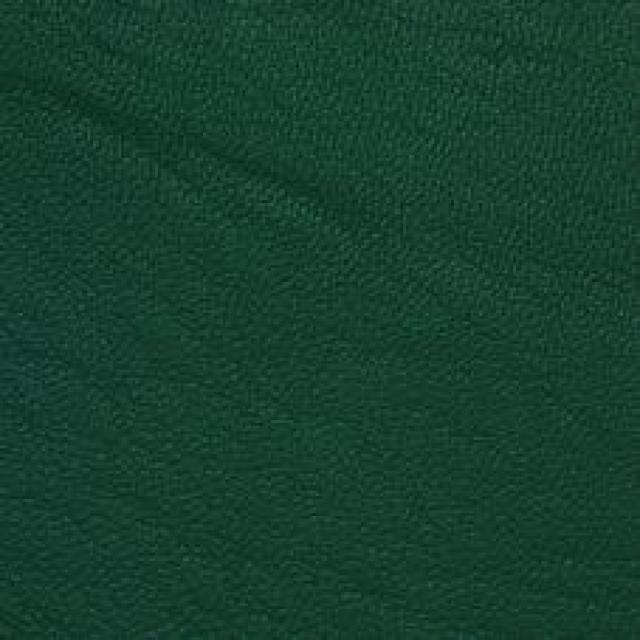Growth Marks: (52, 70, 362, 256)
